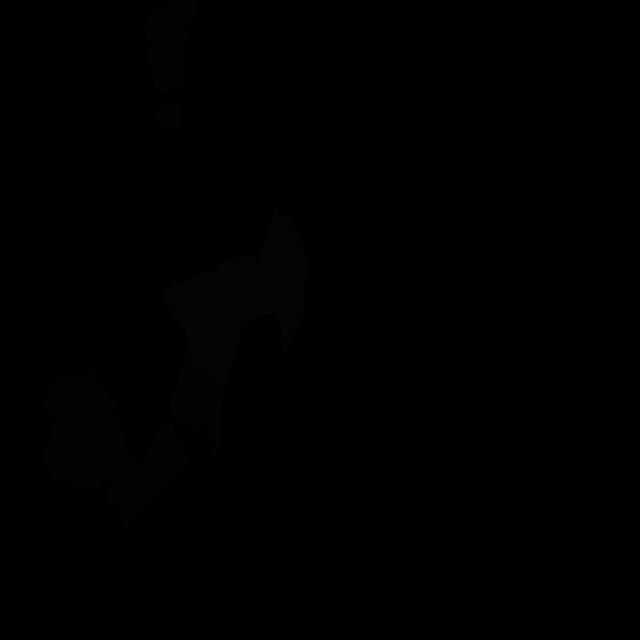cardboard: (44, 363, 192, 528), (168, 361, 227, 462), (144, 0, 197, 96), (156, 99, 180, 134)
soft_plastic: (163, 208, 307, 386)
